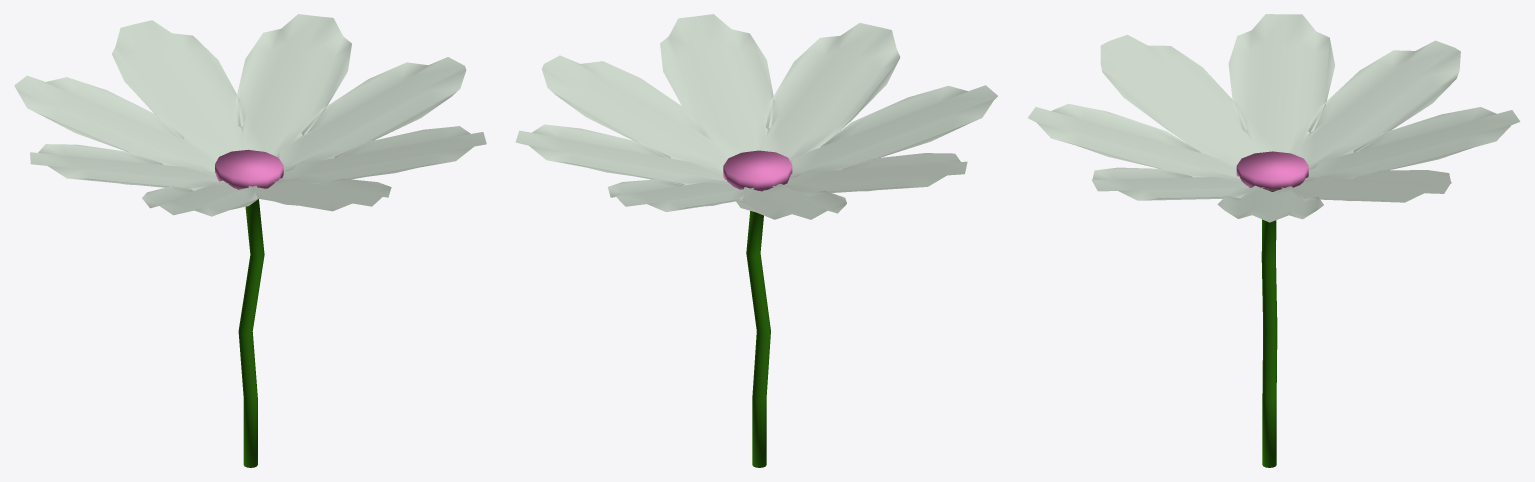
File: flower2.fbx
3 views of the same model, side by side, from view 1: azimuth 30°, elevation 25°; view 2: azimuth 150°, elevation 25°; view 3: azimuth 270°, elevation 25° (orthographic).
Parts seen in each view (by area): view 1: Pedals, Circle.001, Round; view 2: Pedals, Circle.001, Round; view 3: Pedals, Circle.001, Round.
Boxes of the visible parts, left/top/right/bottom form: Pedals: left=14, top=14, right=486, bottom=216; Circle.001: left=237, top=189, right=264, bottom=467; Round: left=215, top=149, right=283, bottom=189; Pedals: left=515, top=14, right=997, bottom=219; Circle.001: left=746, top=190, right=770, bottom=467; Round: left=723, top=150, right=792, bottom=190; Pedals: left=1028, top=14, right=1520, bottom=222; Circle.001: left=1249, top=187, right=1277, bottom=467; Round: left=1236, top=151, right=1308, bottom=190.
Bounding box in the file's own units: 517 × 406 × 517.
